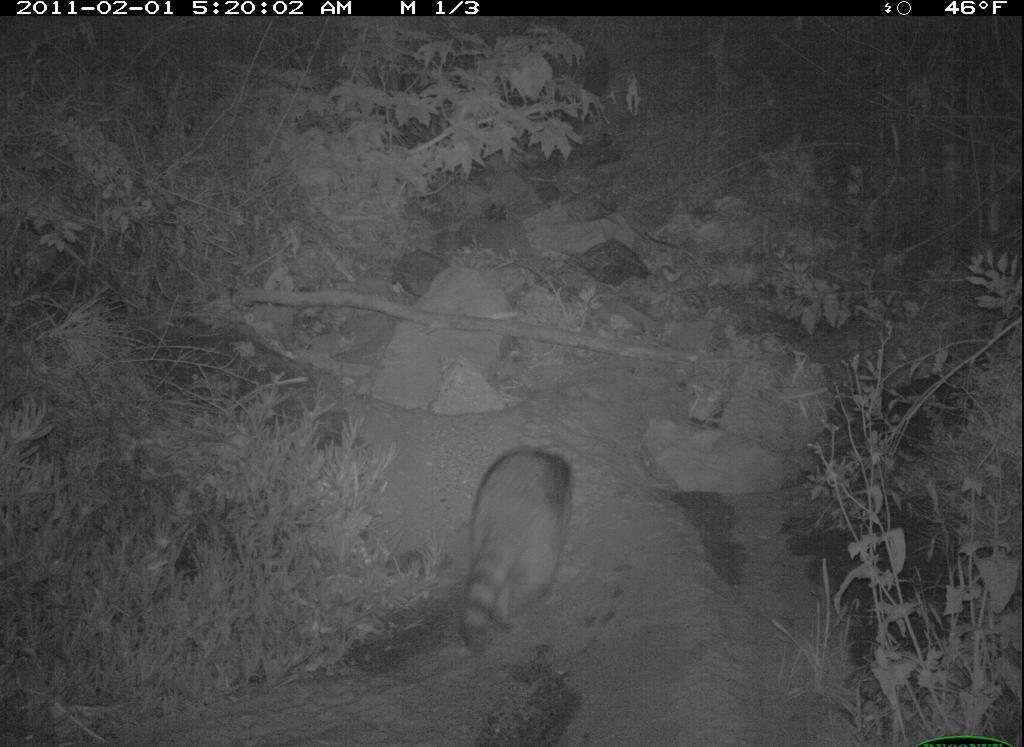raccoon: (440, 442, 594, 664)
